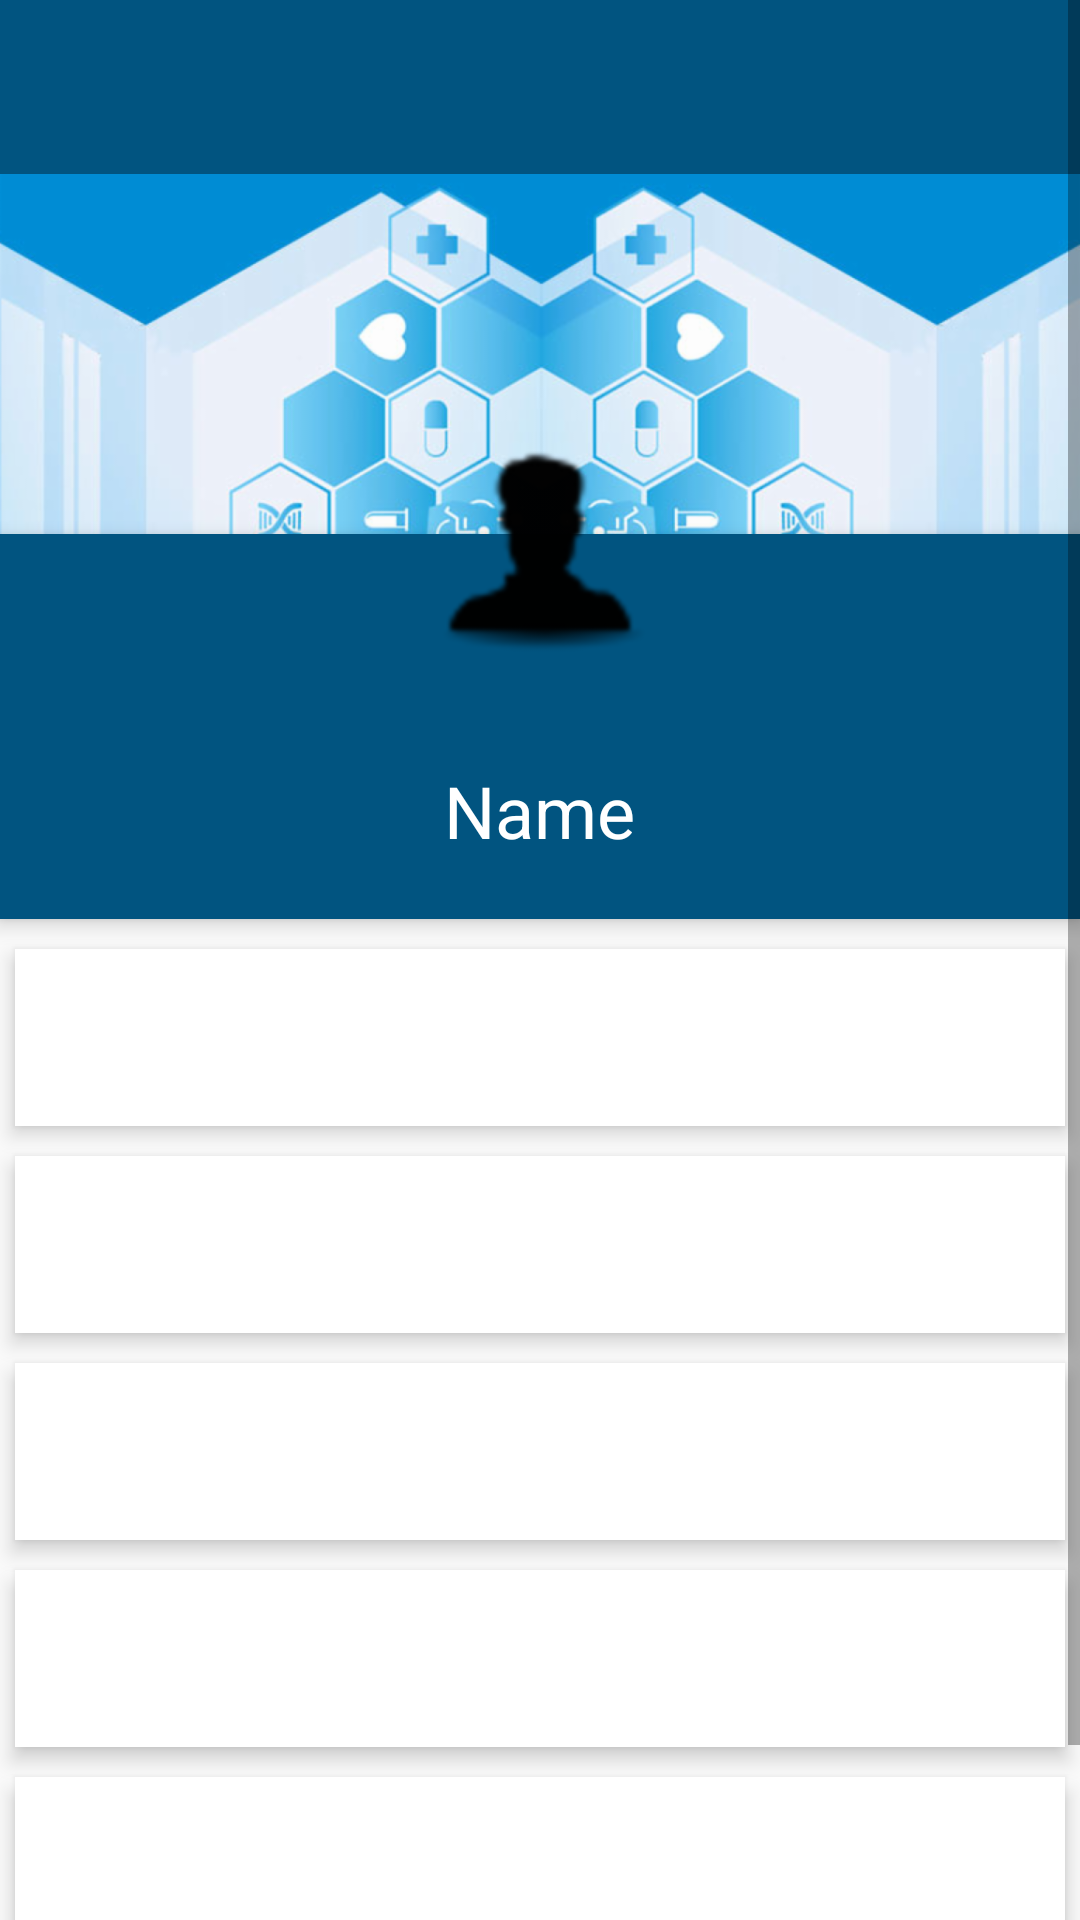

Named icons in this screenshot (1080×1920) and their centers, point (x, y):
apps user: point (540, 535)
